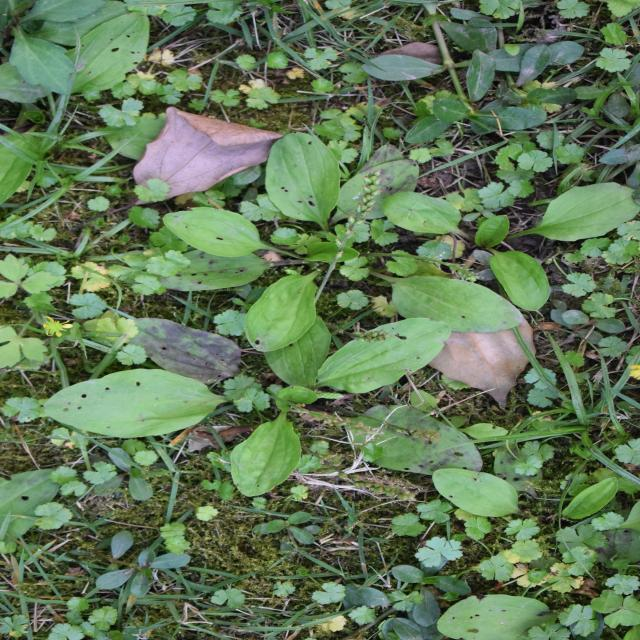plantain: (151, 30, 330, 428), (288, 155, 492, 464)
